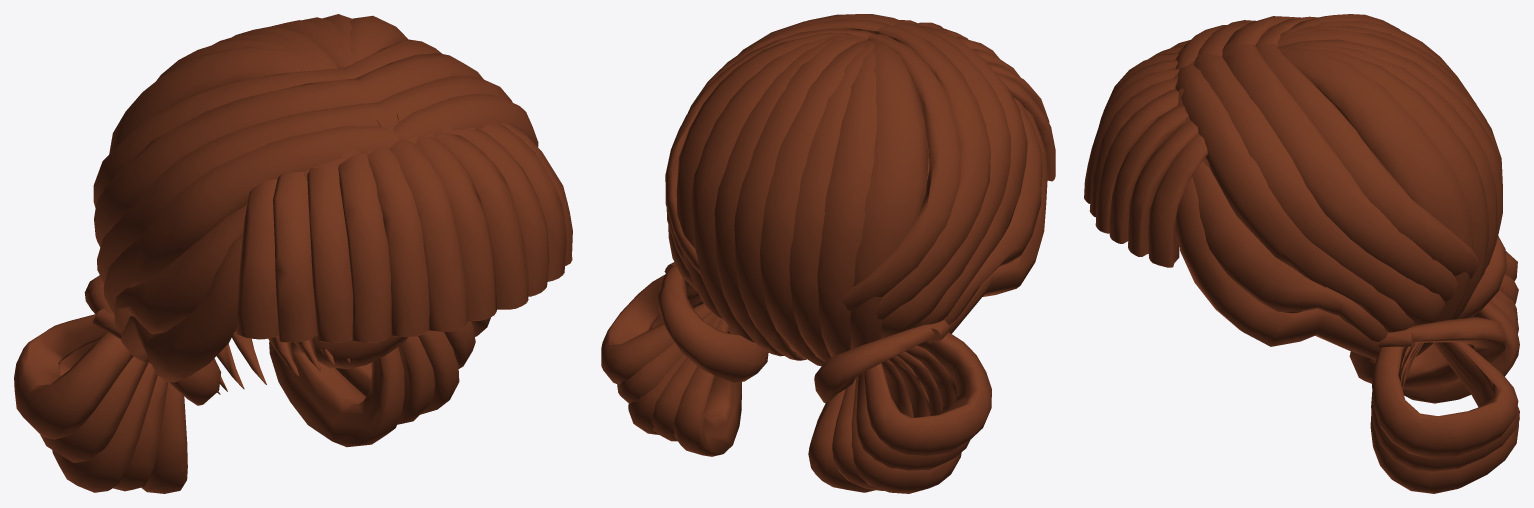
Rendered from hair-3-66b7d360.glb.
3 renders of one model, left to right at view 1: azimuth 30°, elevation 25°; view 2: azimuth 150°, elevation 25°; view 3: azimuth 270°, elevation 25°, orthographic. The views are drawn at different scales.
Visible parts, largest first — view 1: hair_3.001; view 2: hair_3.001; view 3: hair_3.001.
Boxes of the visible parts, x1,y1,x2,y2 form: hair_3.001: (14, 14, 572, 493); hair_3.001: (601, 14, 1055, 493); hair_3.001: (1084, 14, 1519, 493).
Size of the model in its own units: 2.08 by 2.06 by 2.03.
